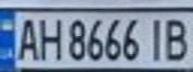6: (121, 16, 145, 62), (84, 16, 106, 62), (103, 15, 124, 62)
8: (63, 16, 87, 62)
A: (12, 15, 42, 62)
B: (160, 15, 193, 62)
H: (36, 15, 63, 61)
I: (142, 15, 169, 62)
